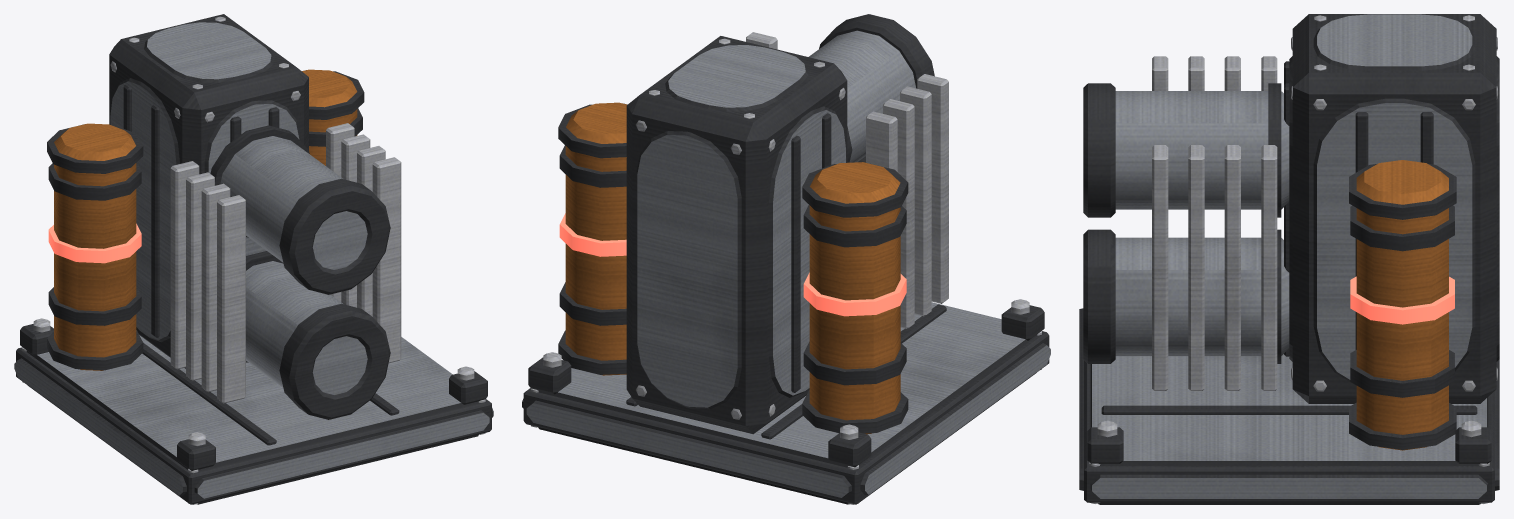
The model's file is R4X_DoubleShotOverdrive.glb.
3 renders of one model, left to right at view 1: azimuth 30°, elevation 25°; view 2: azimuth 150°, elevation 25°; view 3: azimuth 270°, elevation 25°, orthographic. The views are drawn at different scales.
Visible parts, largest first — view 1: R4X_DoubleShotOverdrive_Body; view 2: R4X_DoubleShotOverdrive_Body; view 3: R4X_DoubleShotOverdrive_Body.
Part boxes in pixels (left/top/right/bottom): R4X_DoubleShotOverdrive_Body: left=14, top=14, right=493, bottom=504; R4X_DoubleShotOverdrive_Body: left=522, top=14, right=1050, bottom=504; R4X_DoubleShotOverdrive_Body: left=1079, top=14, right=1499, bottom=504.
Bounding box in the file's own units: 0.52 × 0.52 × 0.52.
5 materials, 4 textured.
